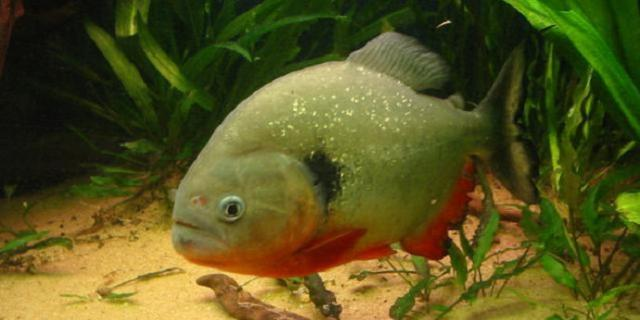Mulut: (156, 190, 240, 290)
Sirip Anal: (396, 149, 482, 281)
Sirip Dada: (282, 212, 378, 284)
Sirip Ekor: (466, 32, 550, 220)
Sirip Perut: (348, 238, 404, 272)
Sirip Punggung: (338, 23, 470, 115)
